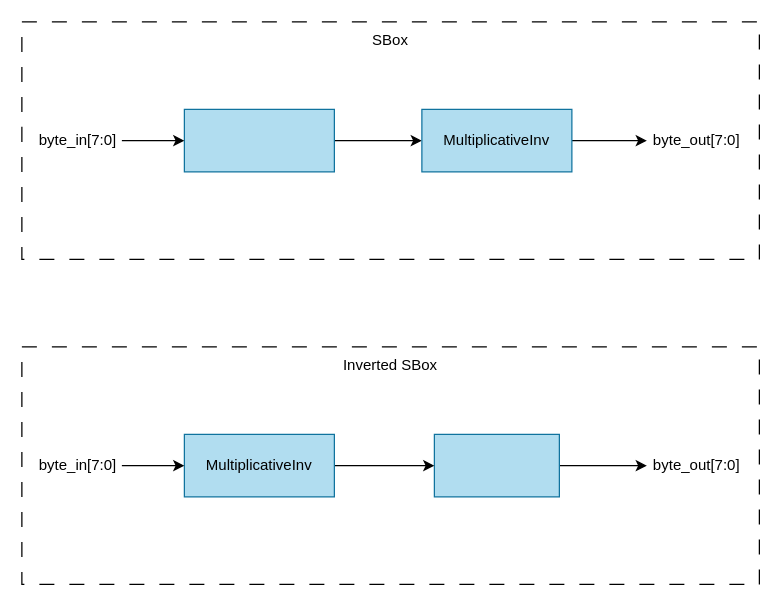
Some shapes in this 781 by 606 pixel diagram are drawn without their labels. The shapes that lost their labels are listed below. From the top down, each one's centre as x and y in pixels, then its label:
At (258,140): "InvAffineTransform".
At (496,465): "AffineTransform".
